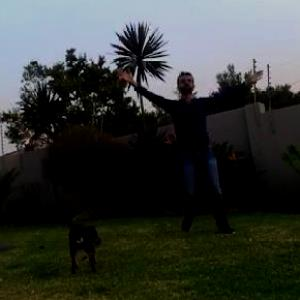takeoff: (128, 77, 248, 222)
